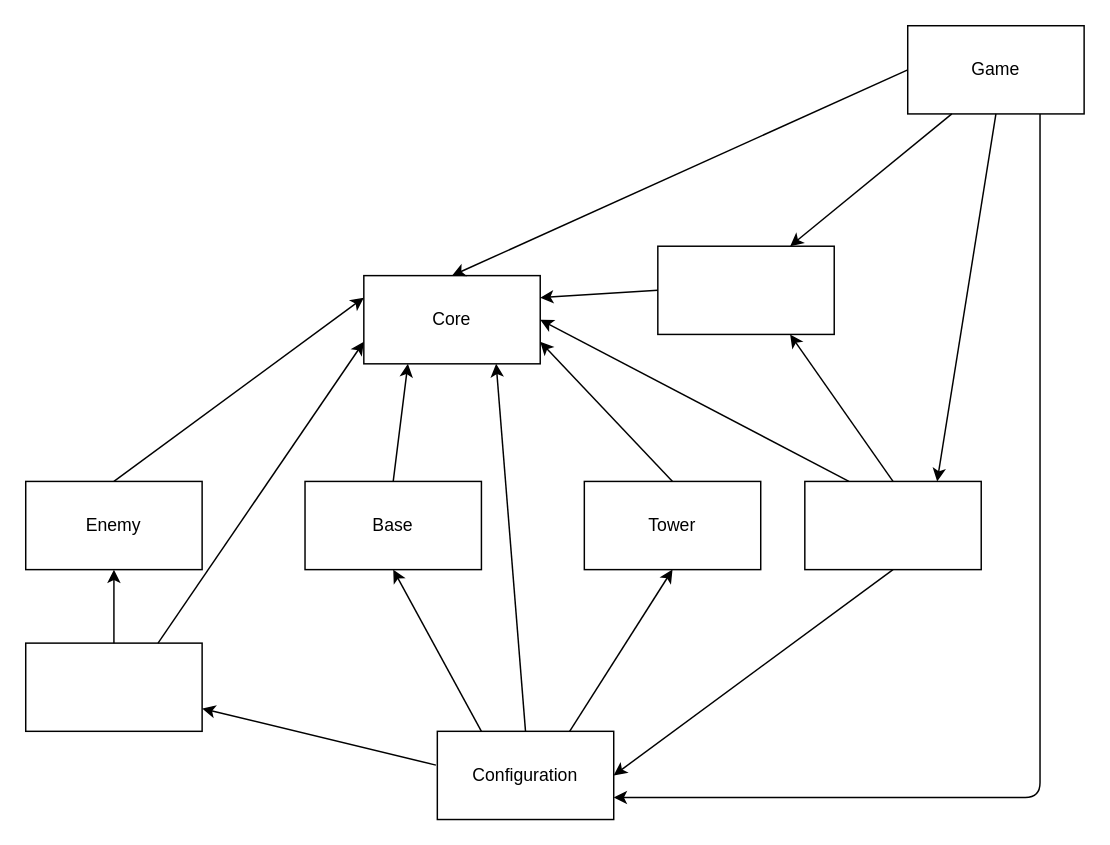
Some shapes in this 1110 by 845 pixel diagram are drawn without their labels. Each missing label, with the centre of its shape:
"Controls" belongs at point 892,525.
"Spawn" belongs at point 113,686.
"UI" belongs at point 745,289.
